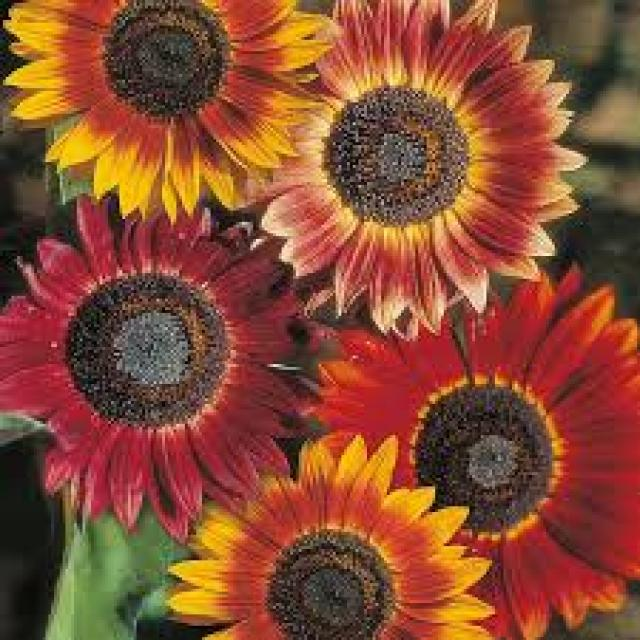sunflower: (296, 244, 640, 640), (222, 0, 595, 344), (3, 180, 342, 543), (0, 0, 341, 227), (158, 429, 501, 640)
